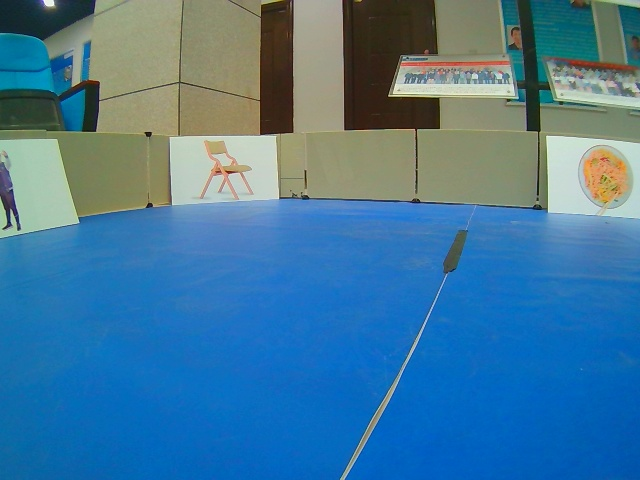food: (544, 136, 640, 220)
table: (168, 136, 280, 205)
